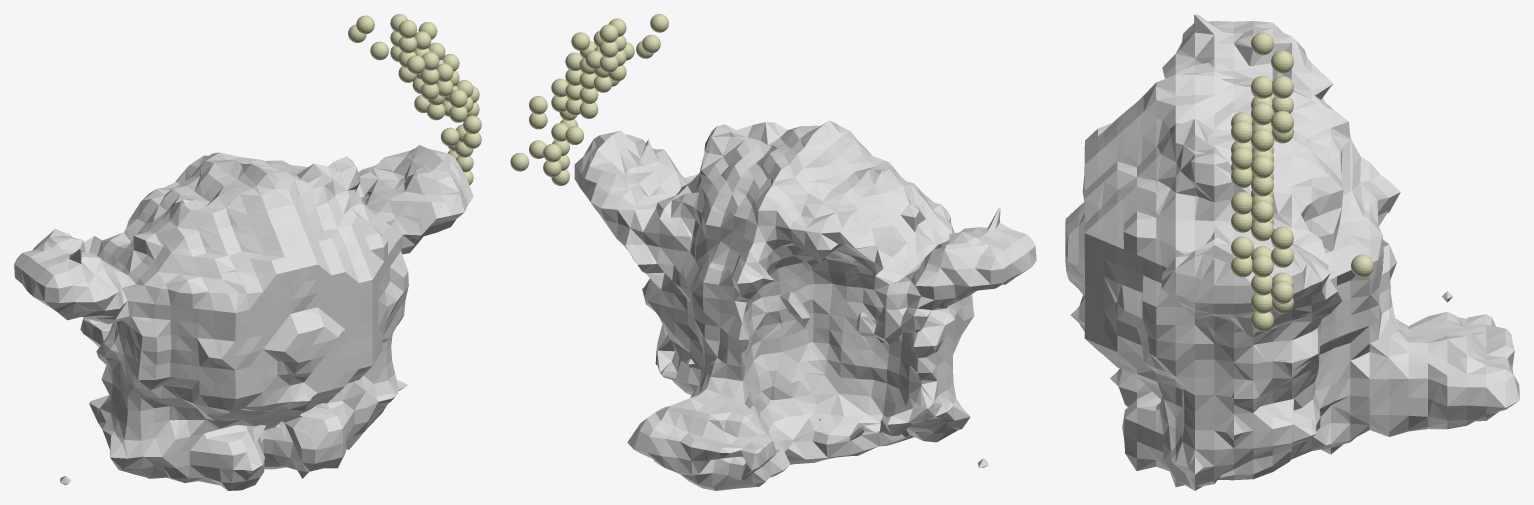
The picture shows the model from 3 angles, left to right: view 1: azimuth 30°, elevation 25°; view 2: azimuth 150°, elevation 25°; view 3: azimuth 270°, elevation 25°; orthographic projection. The views are drawn at different scales.
Parts seen in each view (by area): view 1: world; view 2: world; view 3: world.
Part boxes in pixels (x1,y1,x2,y2): world: [14, 14, 481, 490]; world: [510, 14, 1036, 490]; world: [1065, 14, 1519, 490].
Size of the model in its own units: 2.96 by 2.43 by 2.01.
